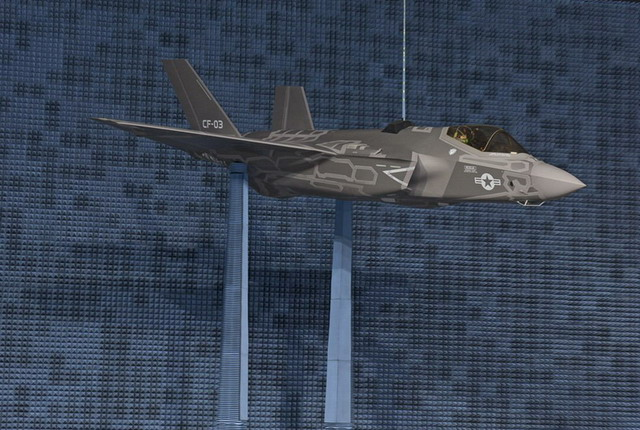F-35 Lightning: (91, 25, 606, 243)
